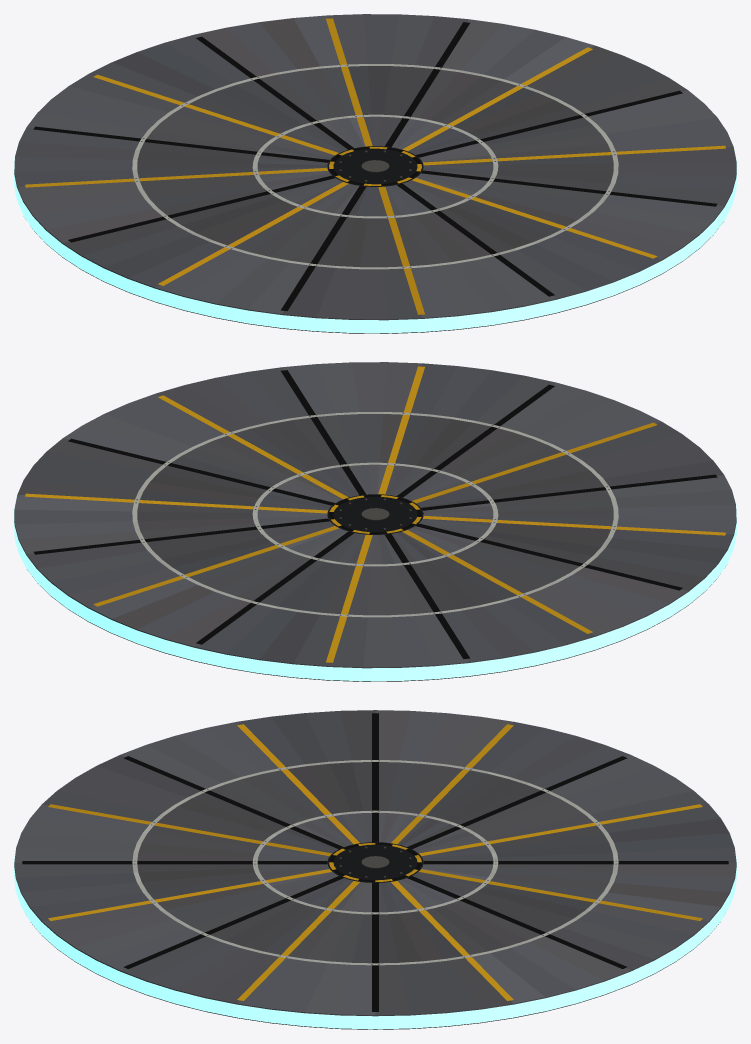
The model's file is turntable.glb.
3 renders of one model, top to bottom at view 1: azimuth 30°, elevation 25°; view 2: azimuth 150°, elevation 25°; view 3: azimuth 270°, elevation 25°, orthographic.
Visible parts, largest first — view 1: Disc; view 2: Disc; view 3: Disc.
Part boxes in pixels (box(x1,y1,x2,y2)): Disc: box(14, 14, 736, 333); Disc: box(14, 362, 736, 681); Disc: box(14, 710, 736, 1029).
Bounding box in the file's own units: 18.02 × 0.426 × 18.02.
